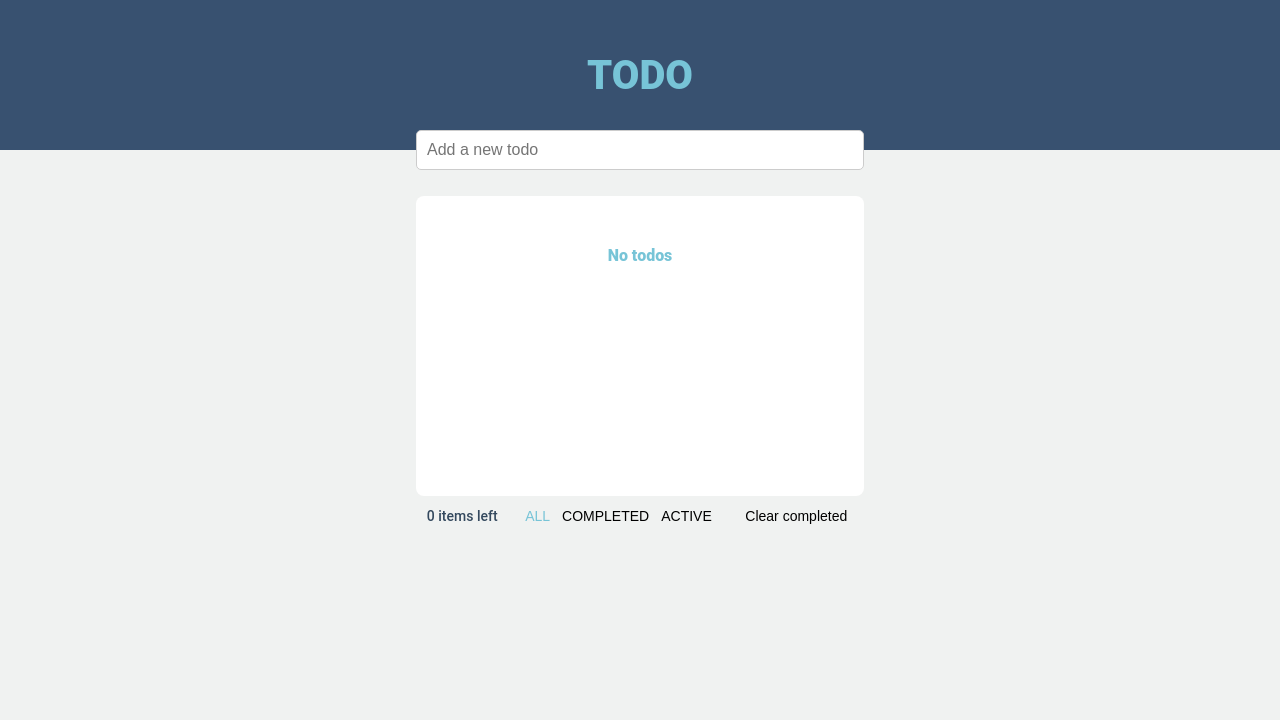
it: App › adds a new todo
Type "Add a Todo" into the field with class "todo-input" at (640, 150), box [416, 130, 864, 170]
Then press Enter
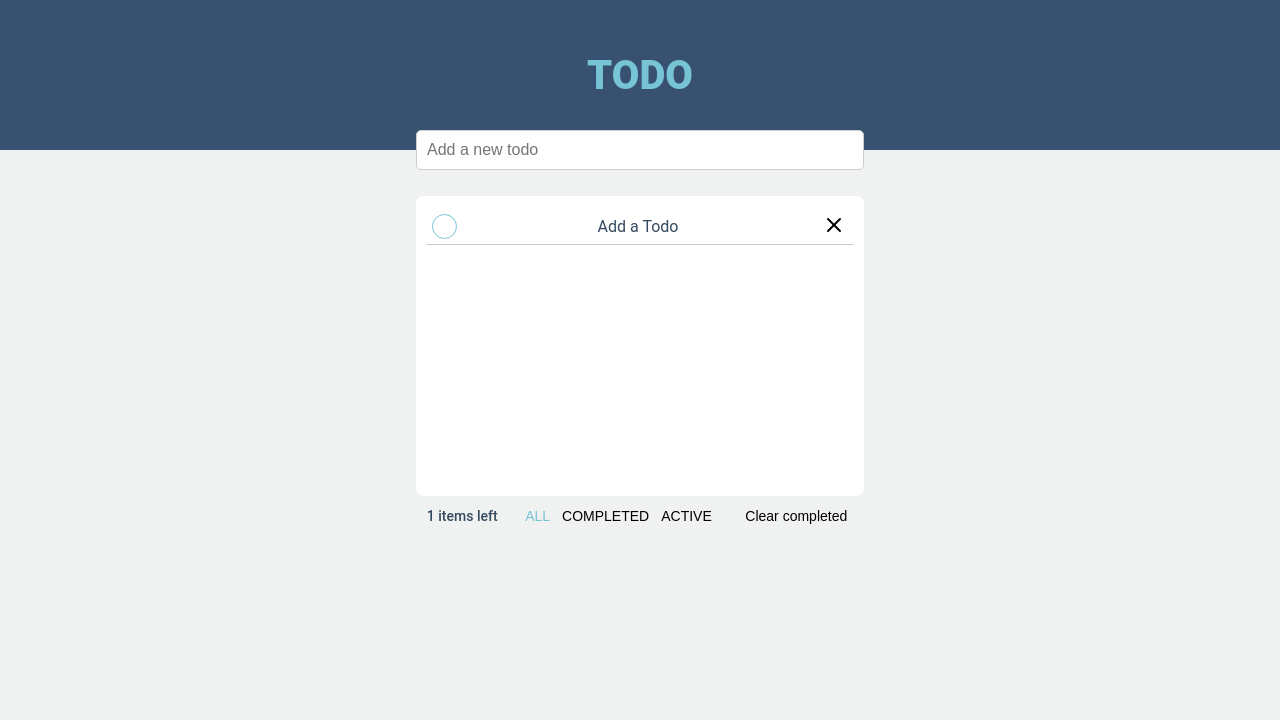
Expected: the text with class "todo-list" reads "Add a Todo", [598, 217, 679, 236]
